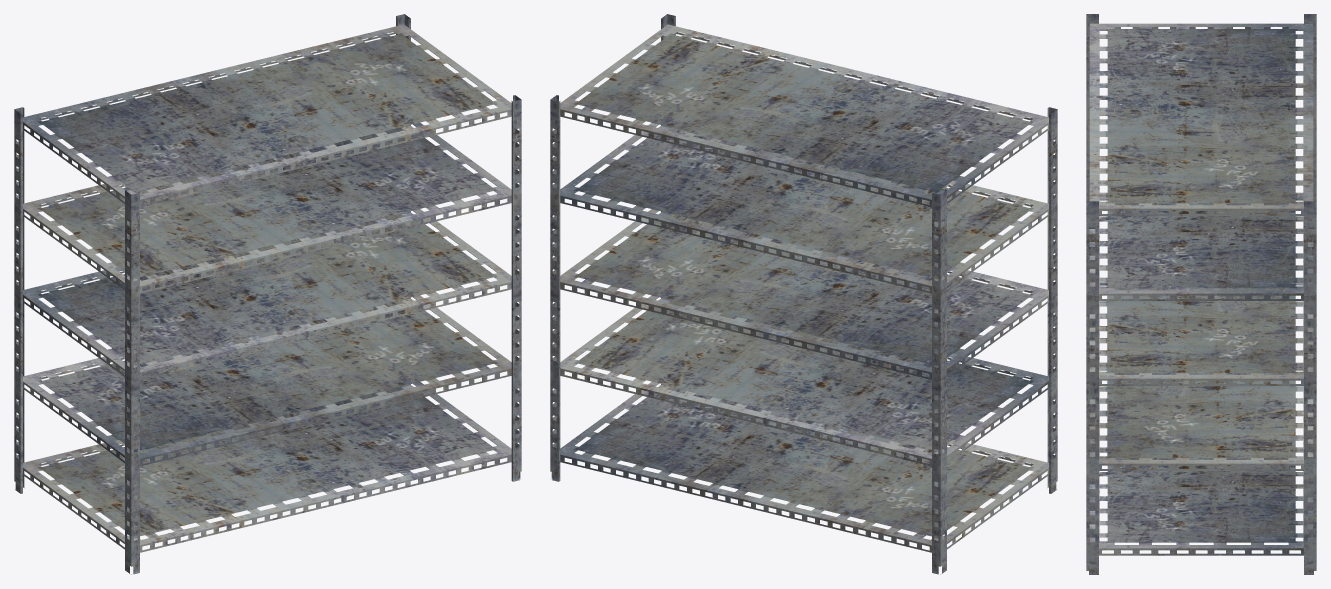
Rendered from rack.glb.
3 renders of one model, left to right at view 1: azimuth 30°, elevation 25°; view 2: azimuth 150°, elevation 25°; view 3: azimuth 270°, elevation 25°, orthographic.
Visible parts, largest first — view 1: Material2.001, Material2.002; view 2: Material2.001, Material2.002; view 3: Material2.001, Material2.002.
Boxes of the visible parts, x1,y1,x2,y2 form: Material2.001: [23, 24, 511, 552]; Material2.002: [14, 14, 521, 574]; Material2.001: [560, 24, 1048, 552]; Material2.002: [550, 14, 1057, 574]; Material2.001: [1089, 23, 1313, 555]; Material2.002: [1086, 14, 1316, 574].
Size of the model in its own units: 2.69 by 2.5 by 1.39.
2 materials, 2 textured.
